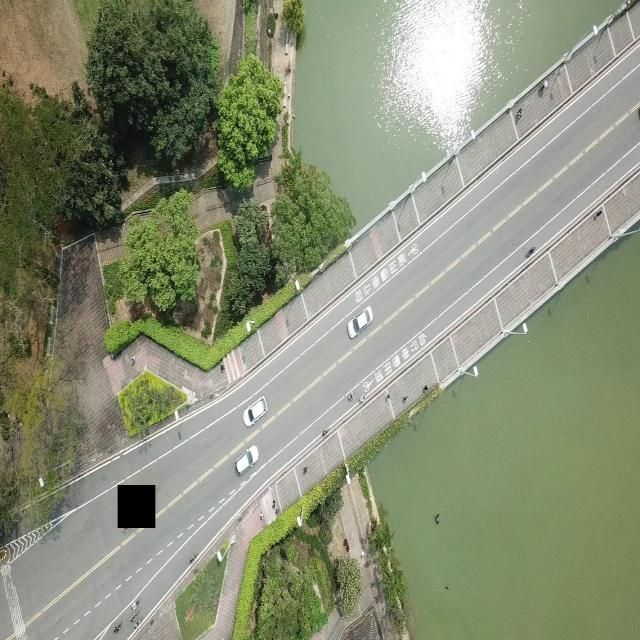bike: (525, 245, 534, 257), (113, 622, 122, 634)
car: (348, 306, 372, 340), (234, 444, 258, 475), (245, 395, 268, 427)
